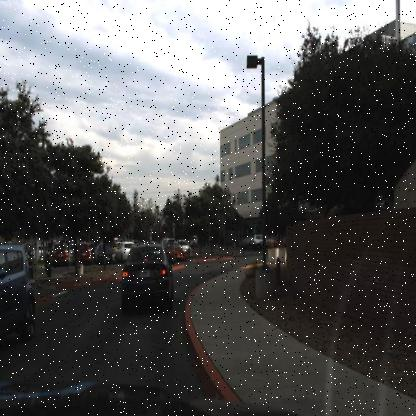car: (117, 235, 176, 316), (0, 242, 38, 351), (48, 239, 73, 269), (90, 239, 117, 266), (158, 240, 185, 266), (94, 240, 117, 270), (247, 230, 276, 250), (72, 239, 93, 266), (252, 232, 278, 253), (113, 238, 134, 263), (166, 240, 186, 264), (118, 240, 132, 267), (187, 233, 199, 249)
